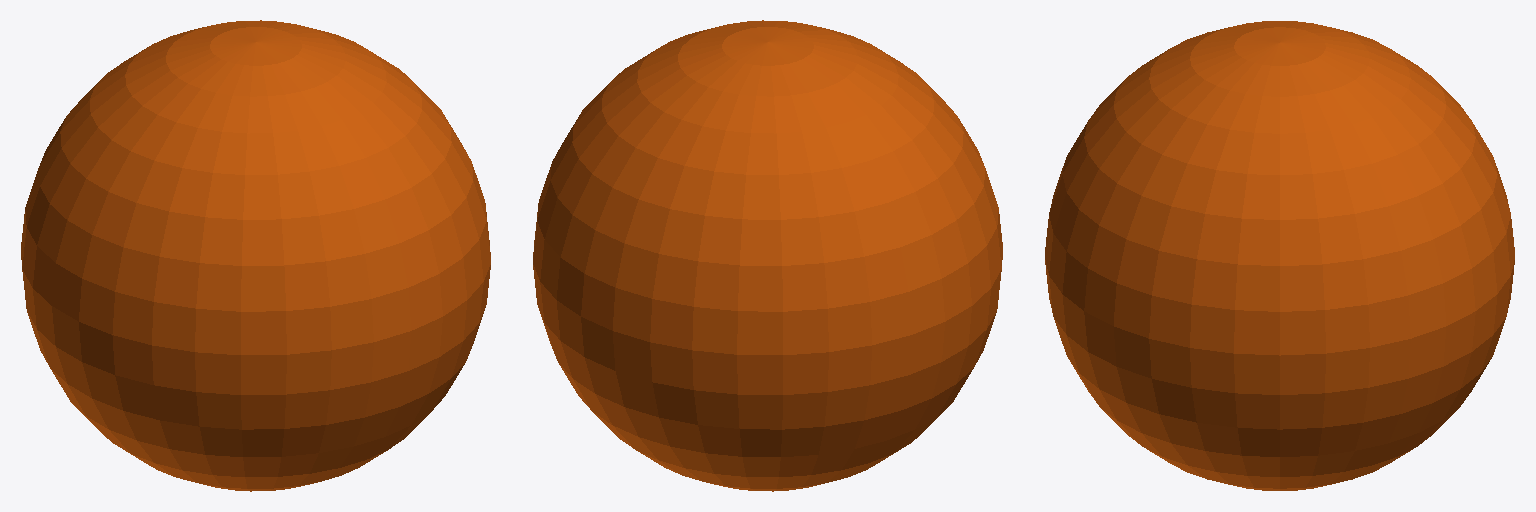
The robot description file, URDF, robot "squareball":
<?xml version="1.0"?>
<robot name="squareball">
  <material name="blockmat">
    <color rgba="0.8 0.4 0.1 1"/>
  </material>

  <link name="origin">
    <contact>
      <lateral_friction value="1.0"/>
      <spinning_friction value=".0001"/>
    </contact>
    <inertial>
      <origin rpy="0 0 0" xyz="0 0 0"/>
      <mass value="0.01"/>
      <inertia ixx="0" ixy="0" ixz="0" iyy="0" iyz="0" izz="0"/>
    </inertial>
    <visual>
      <origin rpy="0 0 0" xyz="0.0 0.0 0.0"/>
      <geometry>
        <sphere radius="0.015"/>
      </geometry>
      <material name="blockmat"/>
    </visual>
    <collision>
      <origin rpy="0 0 0" xyz="0.0 0.0 0.0"/>
      <geometry>
        <box size="0.03 0.01 0.01"/>
      </geometry>
    </collision>
    <collision>
      <origin rpy="0 0 0" xyz="0.0 0.0 0.0"/>
      <geometry>
        <box size="0.01 0.03 0.01"/>
      </geometry>
    </collision>
    <collision>
      <origin rpy="0 0 0" xyz="0.0 0.0 0.0"/>
      <geometry>
        <box size="0.01 0.01 0.03"/>
      </geometry>
    </collision>
  </link>

  

  
</robot>

--- What the picture shows (computed from the rendered views, not written in the file) ---
3 views of the same robot in one strip: view 1: azimuth 30°, elevation 25°; view 2: azimuth 150°, elevation 25°; view 3: azimuth 270°, elevation 25° (orthographic).
Robot: squareball — 1 links, 0 joints (none); root link origin; default pose: every joint at zero.
Visible links, largest first — view 1: origin; view 2: origin; view 3: origin.
Boxes of the visible links, <box> form: origin: <box>21,20,490,491</box>; origin: <box>533,20,1002,491</box>; origin: <box>1045,21,1514,490</box>.
Size in the robot's own frame: 0.03 by 0.03 by 0.03 metres.
Geometry: primitives only (box / cylinder / sphere), no mesh files.